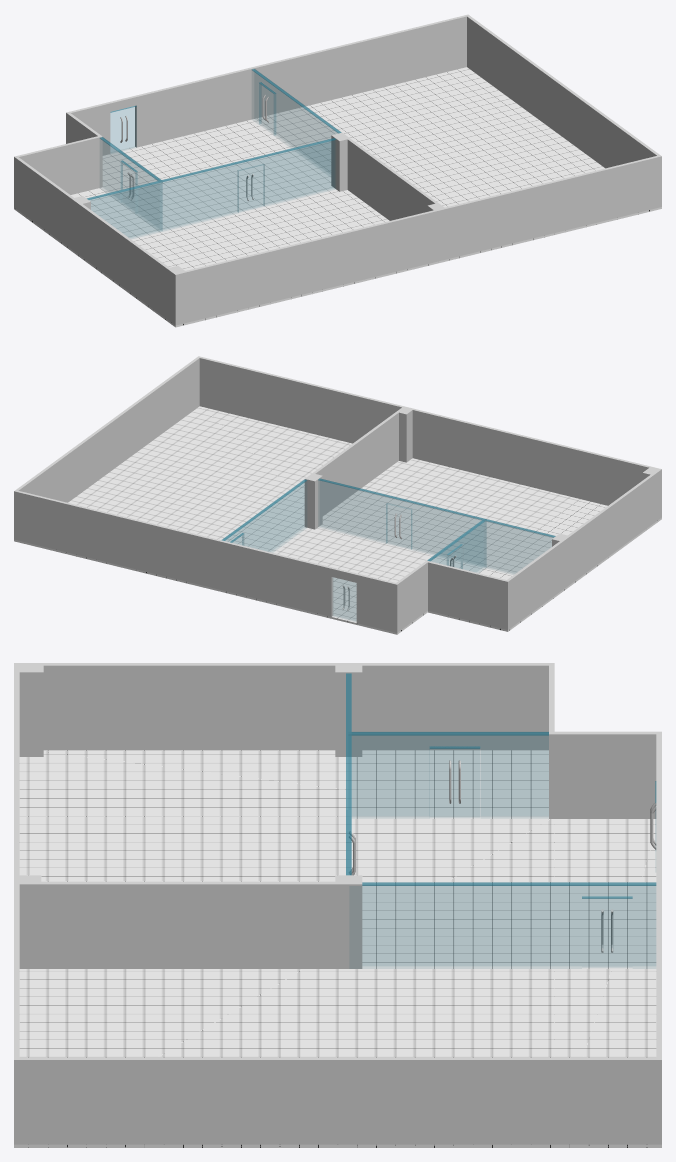
The model's file is changjing.fbx.
The picture shows the model from 3 angles, top to bottom: view 1: azimuth 30°, elevation 25°; view 2: azimuth 150°, elevation 25°; view 3: azimuth 270°, elevation 25°; orthographic projection. The views are drawn at different scales.
Parts seen in each view (by area): view 1: pCube1, pCube3, pCube5, pCube12, pCube4, polySurface1, polySurface12, pCube7, polySurface15 (×4), polySurface7, pCube13, pCube15 (+2 smaller); view 2: pCube1, pCube3, pCube5, pCube12, pCube4, polySurface1, polySurface12, pCube7, polySurface7, polySurface15 (×2), pCube6, pCube13 (+3 smaller); view 3: pCube1, pCube4, polySurface1, polySurface12, polySurface7, pCube13, pCube6, polySurface15 (×2), pCube3, pCube15, pCube16, pCube17 (+5 smaller).
Part boxes in pixels (<box>): pCube1: <box>14,67,661,327</box>; pCube3: <box>174,155,661,325</box>; pCube5: <box>66,15,468,155</box>; pCube12: <box>89,140,334,237</box>; pCube4: <box>466,14,661,203</box>; polySurface1: <box>14,156,178,324</box>; polySurface12: <box>343,135,445,220</box>; pCube7: <box>14,135,102,207</box>; polySurface15 (×4): <box>110,84,275,211</box>; polySurface7: <box>254,72,337,173</box>; pCube13: <box>102,137,161,230</box>; pCube15: <box>331,132,347,191</box>; pCube1: <box>14,406,661,634</box>; pCube3: <box>198,356,661,518</box>; pCube5: <box>14,490,397,632</box>; pCube12: <box>319,480,552,573</box>; pCube4: <box>14,356,200,539</box>; polySurface1: <box>505,469,661,629</box>; polySurface12: <box>308,406,405,516</box>; pCube7: <box>425,560,509,629</box>; polySurface7: <box>225,483,304,551</box>; polySurface15 (×2): <box>333,504,411,620</box>; pCube6: <box>394,561,427,632</box>; pCube13: <box>428,519,485,571</box>; pCube1: <box>14,750,661,1147</box>; pCube4: <box>14,1057,661,1144</box>; polySurface1: <box>14,663,554,750</box>; polySurface12: <box>14,881,335,968</box>; polySurface7: <box>362,886,655,966</box>; pCube13: <box>349,732,548,816</box>; pCube6: <box>554,731,661,818</box>; polySurface15 (×2): <box>430,748,632,966</box>; pCube3: <box>14,663,19,1144</box>; pCube15: <box>335,875,362,968</box>; pCube16: <box>335,664,362,756</box>; pCube17: <box>16,664,43,756</box>.
Size of the model in its own units: 1324 by 137 by 914.
5 materials, 1 textured.
